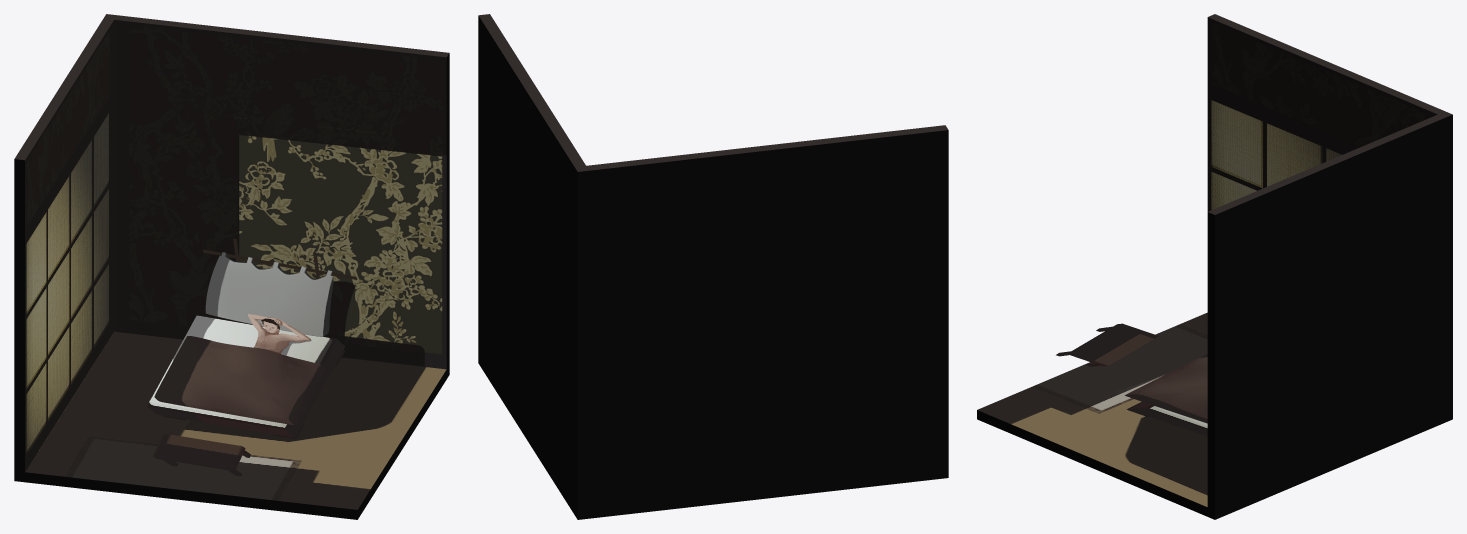
The model's file is day.dae.
3 views of the same model, side by side, from view 1: azimuth 30°, elevation 25°; view 2: azimuth 150°, elevation 25°; view 3: azimuth 270°, elevation 25° (orthographic). The views are drawn at different scales.
Parts seen in each view (by area): view 1: wallR, floor, wallL, outside, Bed.1, Bed.2, Bed, table; view 2: outside; view 3: outside, wallL, floor, Bed.1, table, Bed.
Part boxes in pixels (bbox=[...]): wallR: bbox=[114, 19, 446, 369]; floor: bbox=[25, 331, 446, 509]; wallL: bbox=[25, 20, 114, 471]; outside: bbox=[14, 14, 449, 519]; Bed.1: bbox=[154, 314, 325, 425]; Bed.2: bbox=[203, 238, 357, 336]; Bed: bbox=[147, 315, 345, 438]; table: bbox=[153, 433, 250, 476]; outside: bbox=[478, 14, 948, 519]; outside: bbox=[977, 14, 1452, 519]; wallL: bbox=[1207, 17, 1437, 211]; floor: bbox=[977, 312, 1207, 506]; Bed.1: bbox=[1125, 354, 1207, 423]; table: bbox=[1056, 323, 1158, 366]; Bed: bbox=[1127, 402, 1207, 436].
Size of the model in its own units: 453 by 320 by 453.
Materials: 9 (7 with a texture image).
